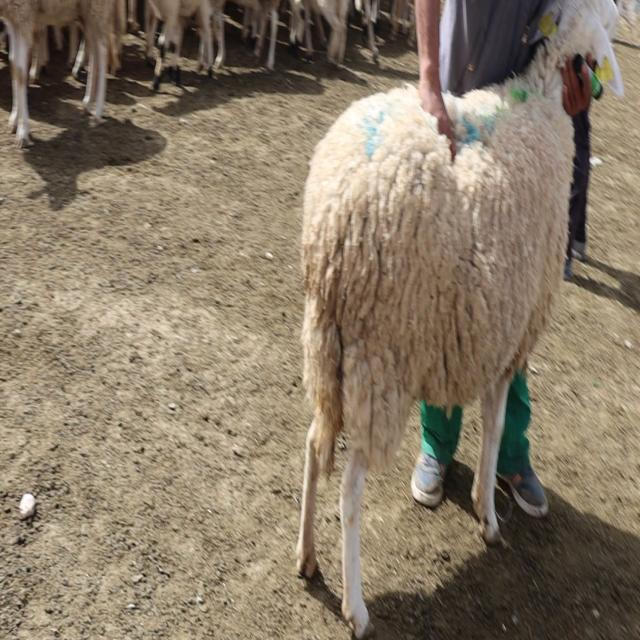Score_2: (296, 0, 623, 636)
